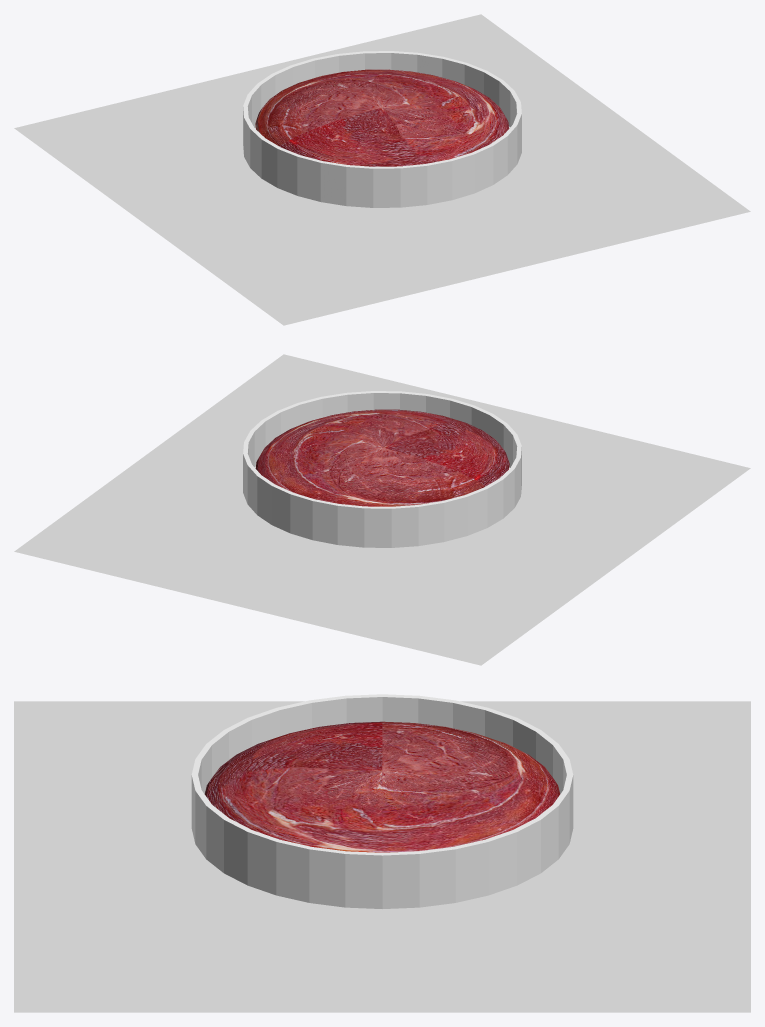
The model's file is meat01.glb.
The picture shows the model from 3 angles, top to bottom: view 1: azimuth 30°, elevation 25°; view 2: azimuth 150°, elevation 25°; view 3: azimuth 270°, elevation 25°; orthographic projection. The views are drawn at different scales.
Visible parts, largest first — view 1: Plane, Icosphere, Circle; view 2: Plane, Icosphere, Circle; view 3: Plane, Icosphere, Circle.
Part boxes in pixels (x1,y1,x2,y2): Plane: (14,14,750,325); Icosphere: (255,69,509,166); Circle: (243,51,521,207); Plane: (14,354,750,665); Icosphere: (255,409,509,506); Circle: (243,391,521,547); Plane: (14,701,750,1012); Icosphere: (204,721,560,852); Circle: (191,694,573,908).
Size of the model in its own units: 14.36 by 1.83 by 14.36.
2 materials, 1 textured.
